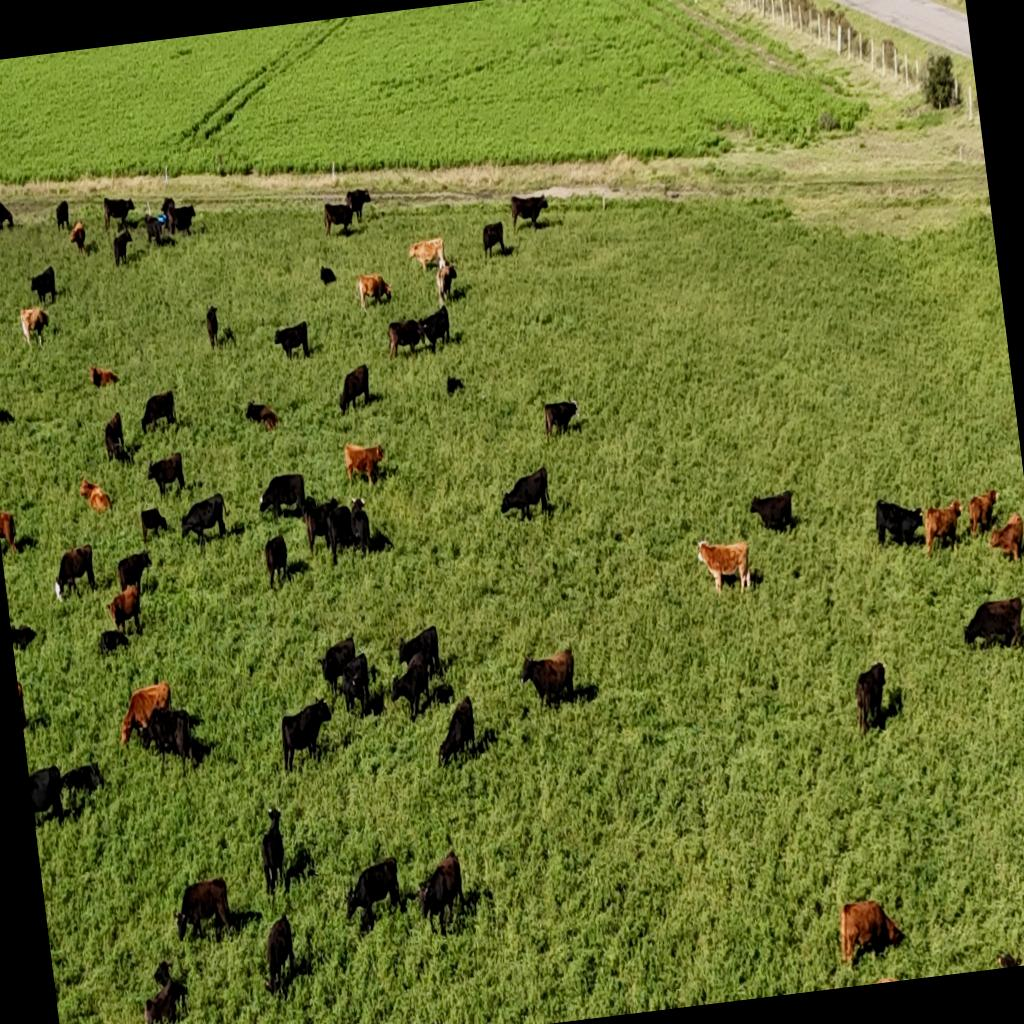cow: (338, 854, 406, 934), (412, 848, 468, 940), (835, 894, 905, 966), (114, 678, 177, 754), (276, 697, 338, 772), (170, 875, 234, 945), (518, 645, 580, 714), (693, 534, 754, 601), (387, 646, 440, 722), (141, 704, 199, 772), (960, 595, 1024, 656), (256, 911, 300, 998), (430, 694, 479, 768), (138, 957, 190, 1024), (254, 802, 290, 896), (851, 660, 894, 737), (176, 490, 230, 550), (497, 466, 552, 524), (316, 634, 362, 702), (872, 496, 926, 552), (920, 498, 968, 560), (394, 624, 442, 685), (254, 472, 308, 524), (300, 494, 345, 556), (50, 544, 97, 600), (28, 764, 68, 828), (336, 651, 374, 718), (322, 502, 358, 570), (747, 489, 798, 535), (985, 510, 1024, 566), (106, 584, 145, 640), (334, 362, 374, 416), (345, 438, 389, 486), (145, 450, 187, 500), (964, 486, 1003, 538), (58, 760, 104, 802), (115, 548, 155, 596), (509, 190, 551, 234), (137, 389, 178, 434), (386, 316, 428, 359), (346, 496, 374, 560), (262, 532, 292, 591), (406, 235, 448, 277), (272, 320, 312, 364), (416, 304, 452, 352), (354, 269, 394, 312), (542, 396, 582, 438), (18, 304, 52, 350), (100, 411, 128, 465), (102, 192, 138, 232), (76, 474, 110, 516), (243, 398, 281, 434), (322, 198, 356, 238), (163, 198, 197, 238), (204, 304, 233, 350), (27, 265, 58, 307), (434, 260, 460, 310), (138, 504, 170, 540), (96, 626, 130, 658), (142, 212, 172, 248), (345, 186, 374, 223), (480, 220, 508, 258), (110, 228, 135, 268), (0, 510, 20, 558), (88, 360, 119, 389), (10, 621, 39, 651), (68, 220, 88, 258), (54, 198, 72, 233), (0, 380, 13, 428), (160, 194, 178, 226), (0, 196, 15, 233), (996, 950, 1022, 968), (318, 264, 336, 286), (446, 374, 465, 394), (349, 496, 367, 514)
